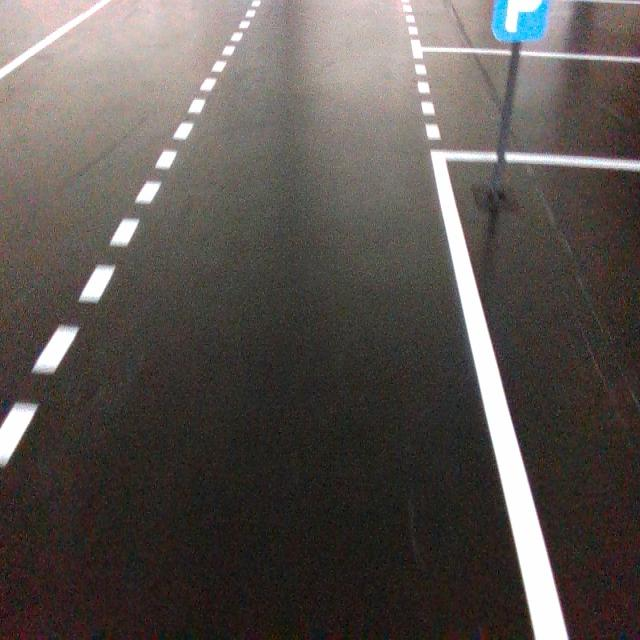parking-sign: (490, 0, 549, 43)
